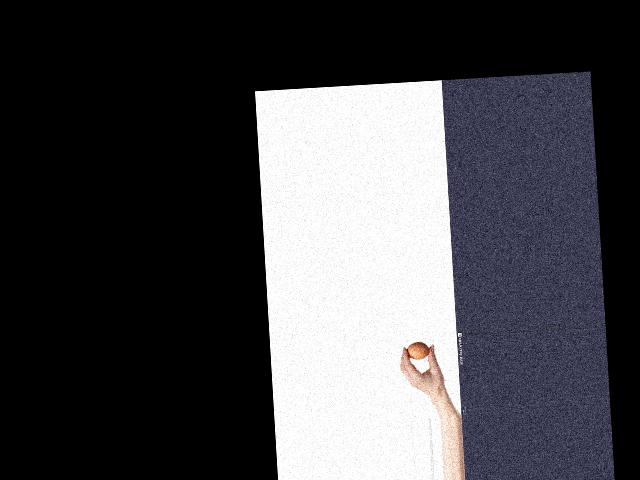egg: (407, 341, 430, 361)
